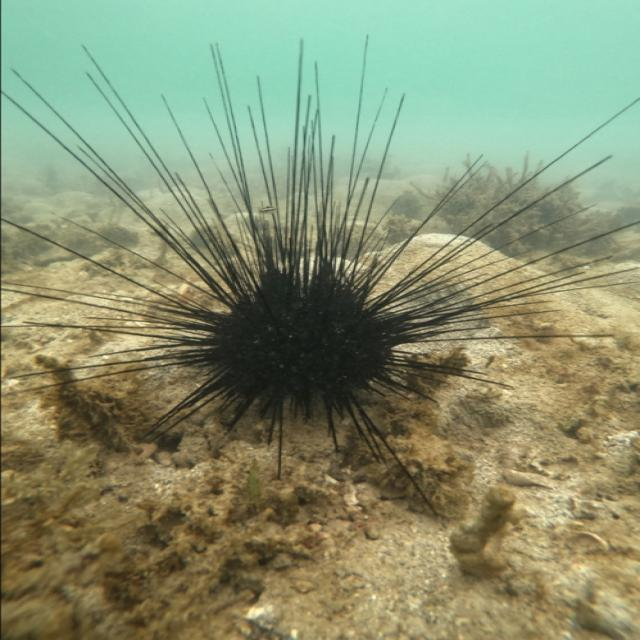Urchin: (40, 40, 609, 477)
